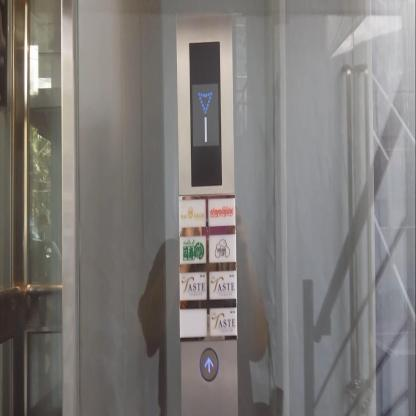led: (188, 40, 223, 186)
up: (199, 346, 219, 382)
